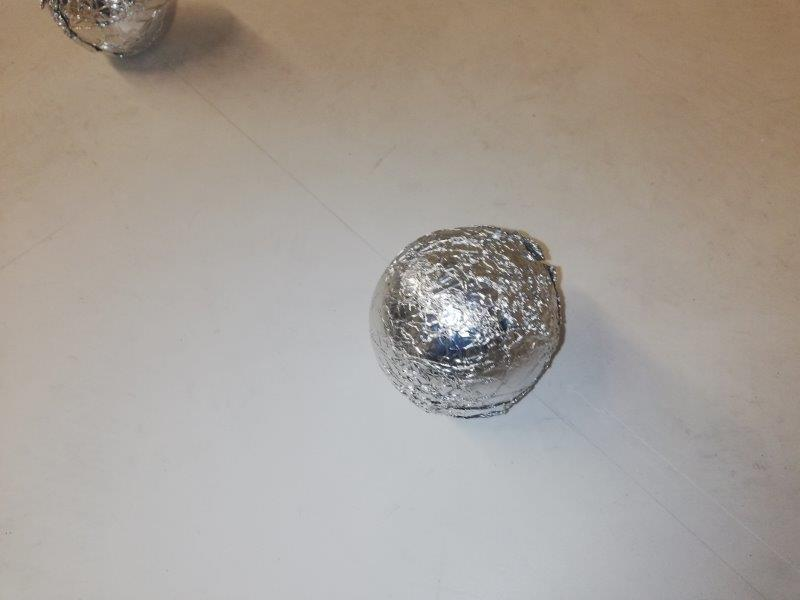bianca: (365, 224, 567, 417), (36, 1, 178, 58)
